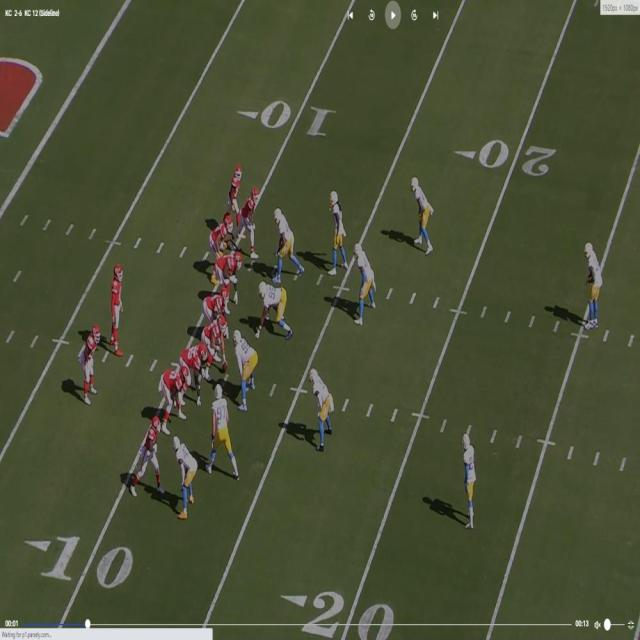center: (209, 320, 229, 372)
db: (588, 238, 604, 323), (416, 176, 434, 248), (465, 433, 478, 527), (328, 193, 343, 272)
lb: (310, 364, 334, 449), (355, 239, 378, 324), (174, 434, 196, 515), (276, 208, 302, 276)
qb: (107, 266, 121, 354)
skill: (125, 414, 162, 492), (81, 327, 99, 400), (241, 186, 259, 254), (209, 215, 235, 247), (228, 165, 242, 206)
